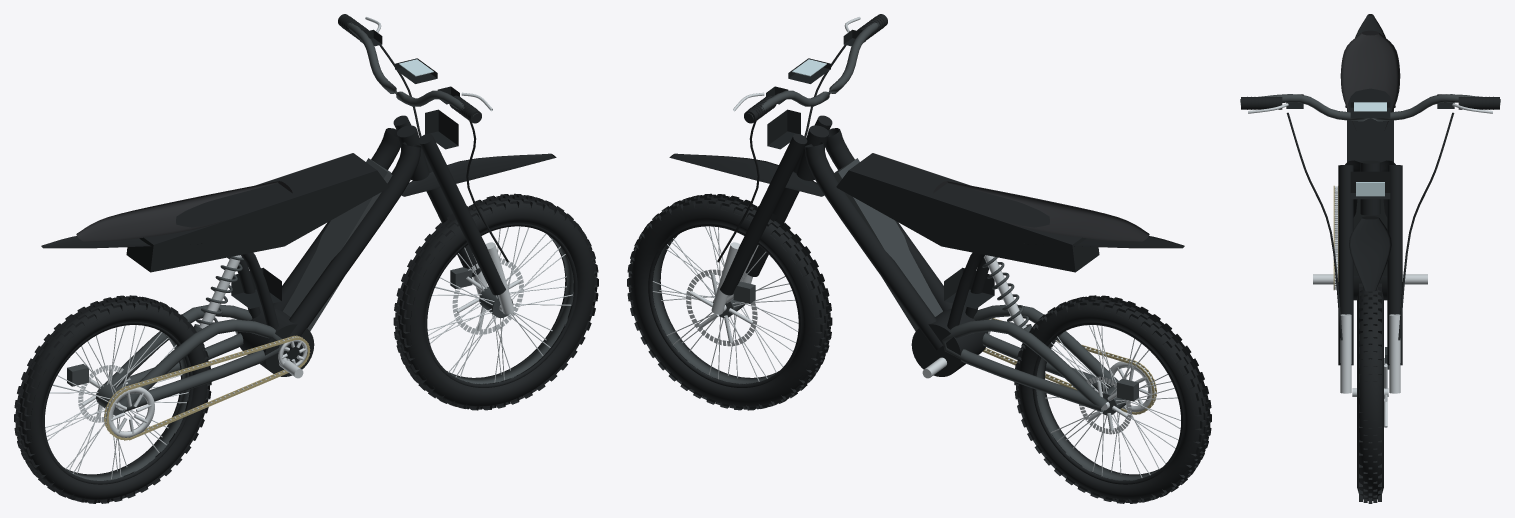
Rendered from talaria-x3.glb.
The picture shows the model from 3 angles, left to right: view 1: azimuth 30°, elevation 25°; view 2: azimuth 150°, elevation 25°; view 3: azimuth 270°, elevation 25°; orthographic projection. The views are drawn at different scales.
Parts seen in each view (by area): view 1: FrontWheel | rubber, BatteryMount | black, RearWheel | rubber, Chassis | black, RearSuspension | graphite, Bodywork | black, Fork | black, FrontWheel | steel, Bodywork | seat, RearWheel | steel, Bodywork | graphite, FrontWheel | graphite (+12 smaller); view 2: FrontWheel | rubber, BatteryMount | black, RearWheel | rubber, Chassis | black, RearSuspension | graphite, Bodywork | black, FrontWheel | steel, Fork | black, Bodywork | seat, RearWheel | steel, Bodywork | graphite, MotorMount | black (+12 smaller); view 3: FrontWheel | rubber, Fork | black, Bodywork | black, Bodywork | seat, BatteryMount | black, Cockpit | rubber, Fork | steel, Cockpit | graphite, Cockpit | black, Chassis | black, Drive | steel, Bodywork | graphite (+4 smaller).
Boxes of the visible parts, bbox=[...] form: FrontWheel | rubber: bbox=[393, 193, 598, 410]; BatteryMount | black: bbox=[126, 153, 389, 272]; RearWheel | rubber: bbox=[14, 295, 211, 503]; Chassis | black: bbox=[237, 125, 429, 350]; RearSuspension | graphite: bbox=[103, 256, 282, 412]; Bodywork | black: bbox=[41, 109, 556, 248]; Fork | black: bbox=[393, 115, 505, 295]; FrontWheel | steel: bbox=[427, 226, 572, 382]; Bodywork | seat: bbox=[76, 181, 292, 241]; RearWheel | steel: bbox=[45, 325, 188, 479]; Bodywork | graphite: bbox=[283, 158, 392, 331]; FrontWheel | graphite: bbox=[447, 235, 573, 384]; FrontWheel | rubber: bbox=[627, 193, 832, 410]; BatteryMount | black: bbox=[836, 153, 1099, 272]; RearWheel | rubber: bbox=[1014, 295, 1211, 503]; Chassis | black: bbox=[796, 125, 988, 350]; RearSuspension | graphite: bbox=[942, 257, 1118, 412]; Bodywork | black: bbox=[669, 109, 1184, 248]; FrontWheel | steel: bbox=[652, 226, 798, 381]; Fork | black: bbox=[720, 115, 832, 295]; Bodywork | seat: bbox=[933, 181, 1149, 241]; RearWheel | steel: bbox=[1045, 325, 1180, 477]; Bodywork | graphite: bbox=[833, 158, 942, 331]; MotorMount | black: bbox=[911, 306, 988, 376]; FrontWheel | rubber: bbox=[1357, 283, 1383, 503]; Fork | black: bbox=[1338, 165, 1402, 365]; Bodywork | black: bbox=[1345, 14, 1395, 291]; Bodywork | seat: bbox=[1340, 30, 1400, 130]; BatteryMount | black: bbox=[1347, 88, 1393, 162]; Cockpit | rubber: bbox=[1241, 97, 1499, 340]; Fork | steel: bbox=[1340, 314, 1400, 393]; Cockpit | graphite: bbox=[1240, 94, 1500, 121]; Cockpit | black: bbox=[1247, 94, 1493, 118]; Chassis | black: bbox=[1345, 160, 1395, 217]; Drive | steel: bbox=[1313, 186, 1427, 289]; Bodywork | graphite: bbox=[1353, 199, 1387, 275].
Size of the model in its own units: 1.81 by 1.09 by 0.7231.
